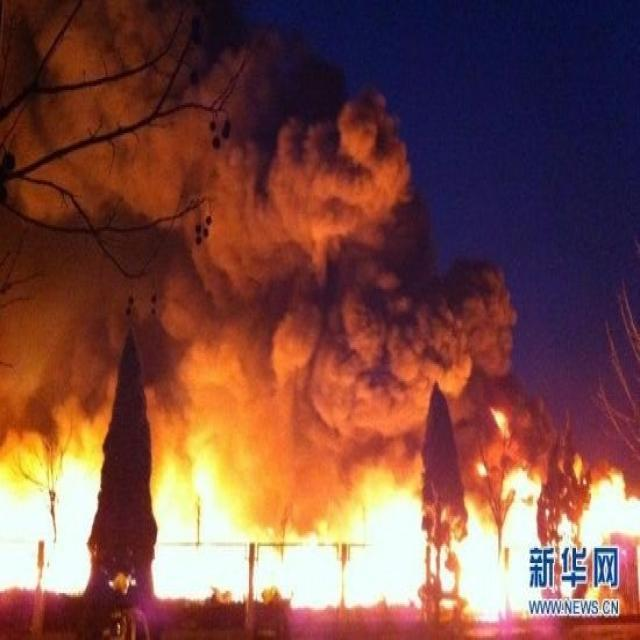Fire: (149, 452, 640, 625), (1, 445, 104, 599), (490, 406, 510, 440)
Smoke: (1, 2, 566, 471)
